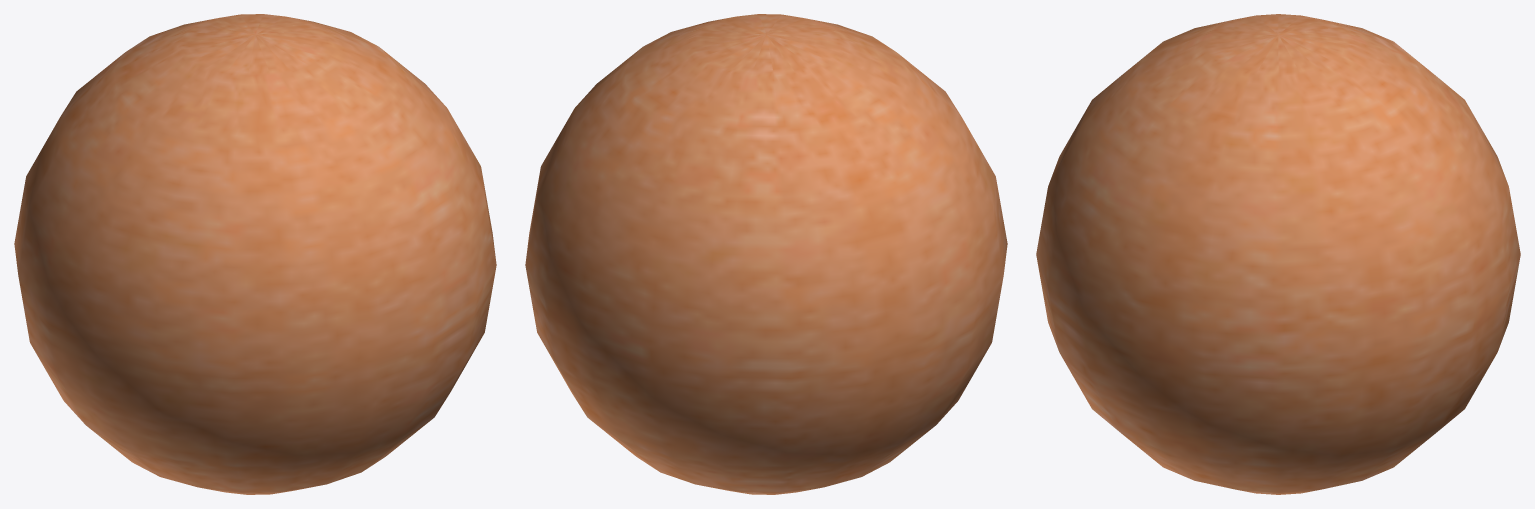
Rendered from Nball.DAE.
3 views of the same model, side by side, from view 1: azimuth 30°, elevation 25°; view 2: azimuth 150°, elevation 25°; view 3: azimuth 270°, elevation 25° (orthographic).
Parts seen in each view (by area): view 1: ball; view 2: ball; view 3: ball.
Part boxes in pixels (<box>): ball: <box>14,14,496,494</box>; ball: <box>525,14,1007,494</box>; ball: <box>1036,14,1520,494</box>.
Bounding box in the file's own units: 2.99 × 2.99 × 2.99.
